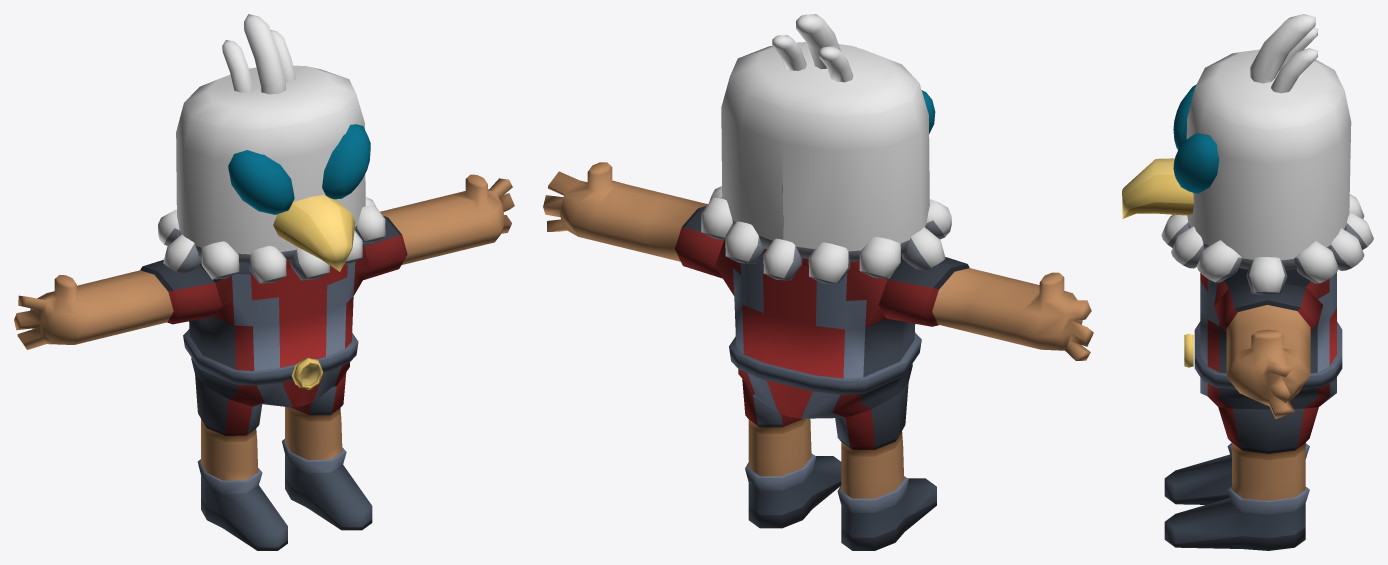
File: ARVID PRONTO.fbx
The picture shows the model from 3 angles, left to right: view 1: azimuth 30°, elevation 25°; view 2: azimuth 150°, elevation 25°; view 3: azimuth 270°, elevation 25°; orthographic projection. The views are drawn at different scales.
Parts seen in each view (by area): view 1: Corpo; view 2: Corpo; view 3: Corpo.
Part boxes in pixels (x1=…): Corpo: x1=14, y1=14, x2=514, y2=550; Corpo: x1=543, y1=14, x2=1093, y2=550; Corpo: x1=1122, y1=14, x2=1373, y2=550.
Size of the model in its own units: 131 by 121 by 54.87.
1 material, 1 textured.
